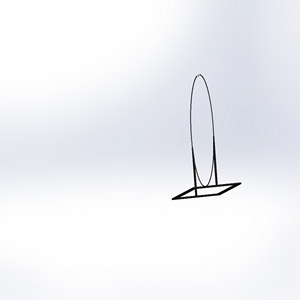circle: (169, 72, 243, 201)
